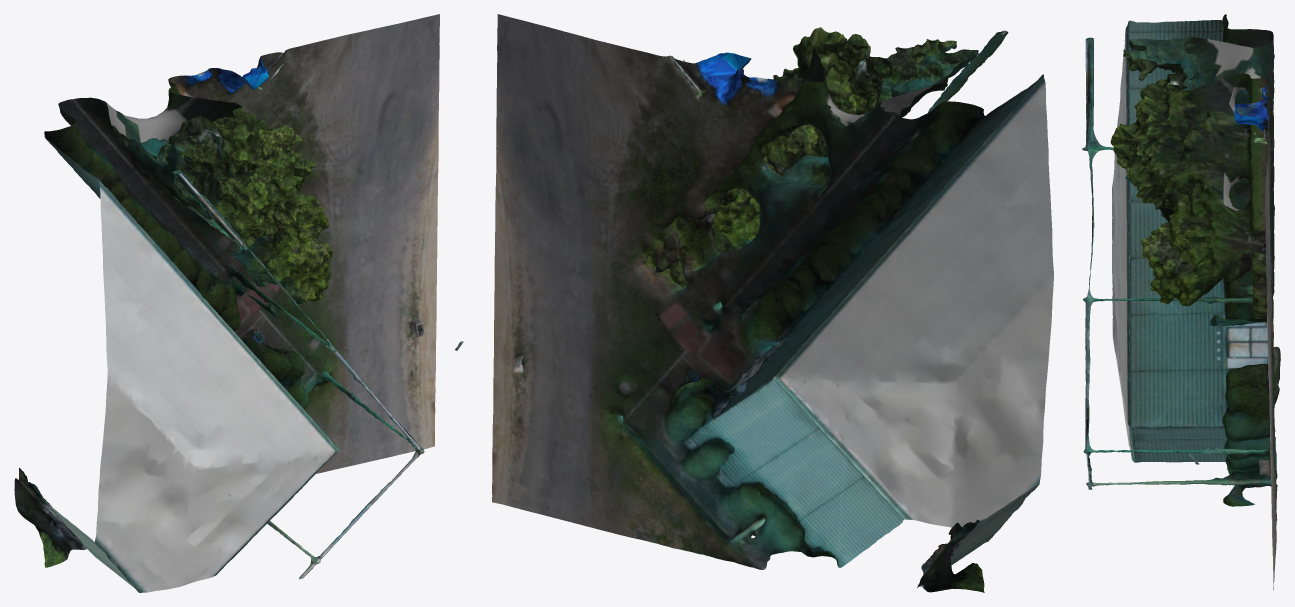
File: Tile_+012_+007.fbx
3 renders of one model, left to right at view 1: azimuth 30°, elevation 25°; view 2: azimuth 150°, elevation 25°; view 3: azimuth 270°, elevation 25°, orthographic. The views are drawn at different scales.
Visible parts, largest first — view 1: DefaultName; view 2: DefaultName; view 3: DefaultName.
Part boxes in pixels (x1,y1,x2,y2): DefaultName: (14,14,463,592); DefaultName: (492,14,1053,592); DefaultName: (1082,14,1280,590).
Bounding box in the file's own units: 22.54 × 22.54 × 10.28.
